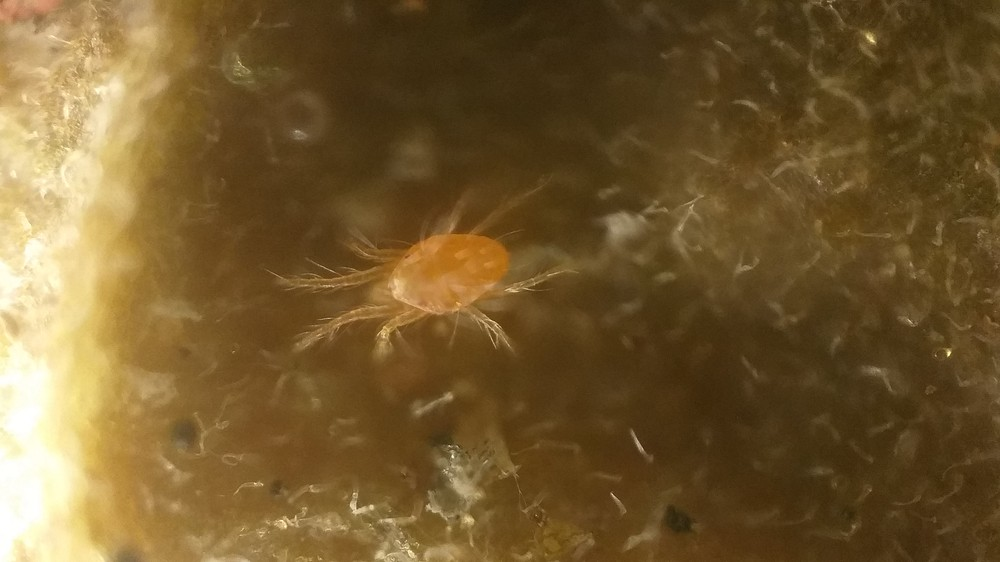Aracnido Rojo: (266, 173, 611, 375)
